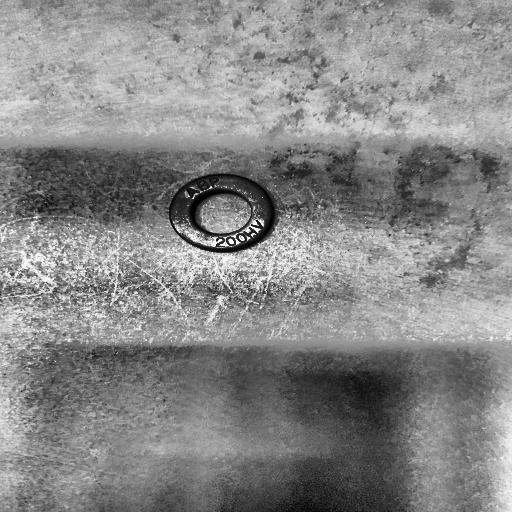Washer: (168, 173, 275, 254)
